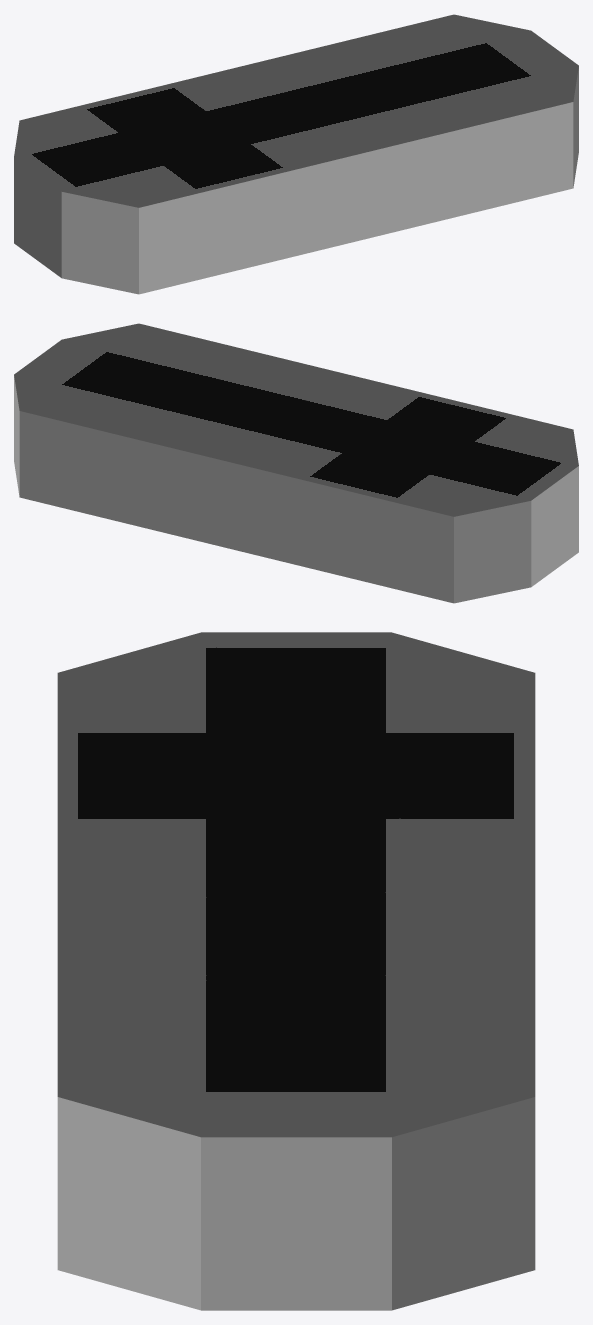
File: coffin.fbx
3 renders of one model, top to bottom at view 1: azimuth 30°, elevation 25°; view 2: azimuth 150°, elevation 25°; view 3: azimuth 270°, elevation 25°, orthographic. The views are drawn at different scales.
Visible parts, largest first — view 1: coffin:Mesh; view 2: coffin:Mesh; view 3: coffin:Mesh.
Boxes of the visible parts, bbox=[...] form: coffin:Mesh: bbox=[14, 14, 578, 294]; coffin:Mesh: bbox=[14, 323, 578, 603]; coffin:Mesh: bbox=[57, 632, 535, 1310].
Size of the model in its own units: 485 by 77.54 by 194.
